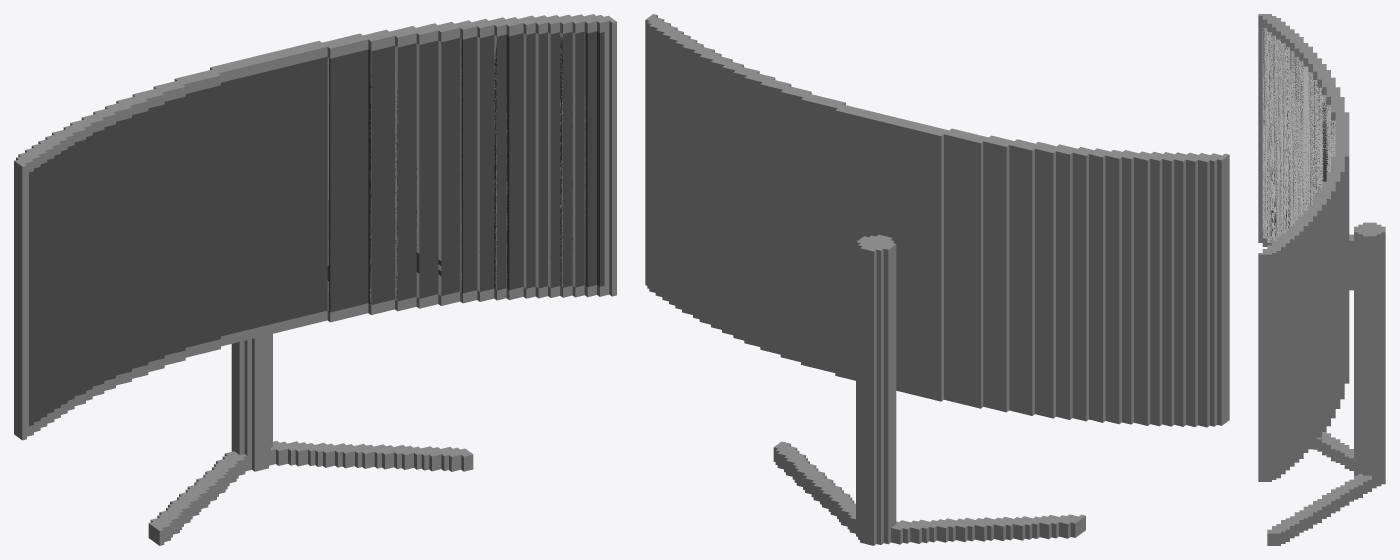
The model's file is Computer1-1.fbx.
3 renders of one model, left to right at view 1: azimuth 30°, elevation 25°; view 2: azimuth 150°, elevation 25°; view 3: azimuth 270°, elevation 25°, orthographic. The views are drawn at different scales.
Parts seen in each view (by area): view 1: Computer1-1, Computer1-1.001, Computer1-1.002; view 2: Computer1-1.001; view 3: Computer1-1.001, Computer1-1.002, Computer1-1.
Part boxes in pixels (x1,y1,x2,y2): Computer1-1: [29, 31, 604, 425]; Computer1-1.001: [14, 14, 616, 545]; Computer1-1.002: [327, 31, 585, 310]; Computer1-1.001: [645, 14, 1229, 545]; Computer1-1.001: [1258, 14, 1385, 545]; Computer1-1.002: [1262, 28, 1335, 242]; Computer1-1: [1262, 28, 1335, 241].
Size of the model in its own units: 12.5 by 8.4 by 2.8.
